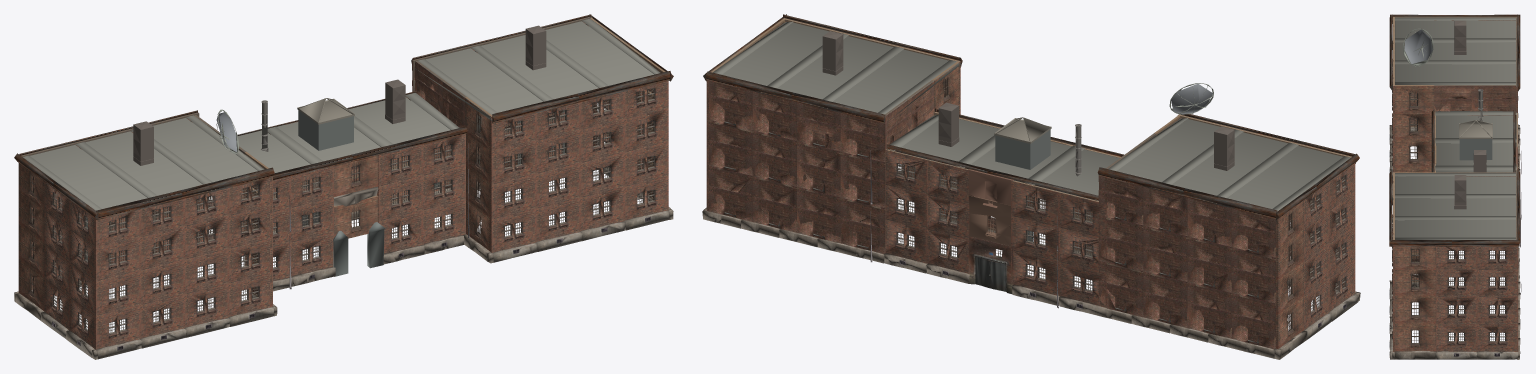
File: prison-block.lod0.glb
3 renders of one model, left to right at view 1: azimuth 30°, elevation 25°; view 2: azimuth 150°, elevation 25°; view 3: azimuth 270°, elevation 25°, orthographic. The views are drawn at different scales.
Visible parts, largest first — view 1: Jail_Build9_MAT_0, Jail_GLASS_Clear_m_0, Jail_Build7_MAT_0, Jail_grills_mat_0, Jail_Build1_MAT_0, Jail_Build8_MAT_0, Jail_Build4_MAT_0; view 2: Jail_Build1_MAT_0, Jail_GLASS_Clear_m_0, Jail_Build9_MAT_0, Jail_grills_mat_0, Jail_Build4_MAT_0, Jail_Build7_MAT_0, Jail_Build8_MAT_0; view 3: Jail_GLASS_Clear_m_0, Jail_Build9_MAT_0, Jail_Build7_MAT_0, Jail_grills_mat_0, Jail_Build1_MAT_0, Jail_Build8_MAT_0, Jail_Build4_MAT_0.
Part boxes in pixels (x1=…): Jail_Build9_MAT_0: x1=44, y1=17, x2=668, y2=349; Jail_GLASS_Clear_m_0: x1=23, y1=18, x2=660, y2=289; Jail_Build7_MAT_0: x1=18, y1=54, x2=665, y2=310; Jail_grills_mat_0: x1=14, y1=14, x2=673, y2=293; Jail_Build1_MAT_0: x1=21, y1=17, x2=590, y2=289; Jail_Build8_MAT_0: x1=40, y1=167, x2=669, y2=359; Jail_Build4_MAT_0: x1=14, y1=182, x2=673, y2=359; Jail_Build1_MAT_0: x1=709, y1=80, x2=1275, y2=349; Jail_GLASS_Clear_m_0: x1=713, y1=21, x2=1350, y2=308; Jail_Build9_MAT_0: x1=706, y1=18, x2=1355, y2=330; Jail_grills_mat_0: x1=703, y1=14, x2=1359, y2=331; Jail_Build4_MAT_0: x1=702, y1=210, x2=1360, y2=359; Jail_Build7_MAT_0: x1=758, y1=19, x2=1303, y2=348; Jail_Build8_MAT_0: x1=703, y1=207, x2=1357, y2=339; Jail_GLASS_Clear_m_0: x1=1392, y1=17, x2=1521, y2=294; Jail_Build9_MAT_0: x1=1392, y1=16, x2=1518, y2=351; Jail_Build7_MAT_0: x1=1395, y1=16, x2=1516, y2=351; Jail_grills_mat_0: x1=1389, y1=14, x2=1520, y2=343; Jail_Build1_MAT_0: x1=1434, y1=17, x2=1518, y2=239; Jail_Build8_MAT_0: x1=1389, y1=126, x2=1517, y2=359; Jail_Build4_MAT_0: x1=1389, y1=124, x2=1520, y2=359.
Bounding box in the file's own units: 51.78 × 17.07 × 12.72.
Materials: 8 (7 with a texture image).
